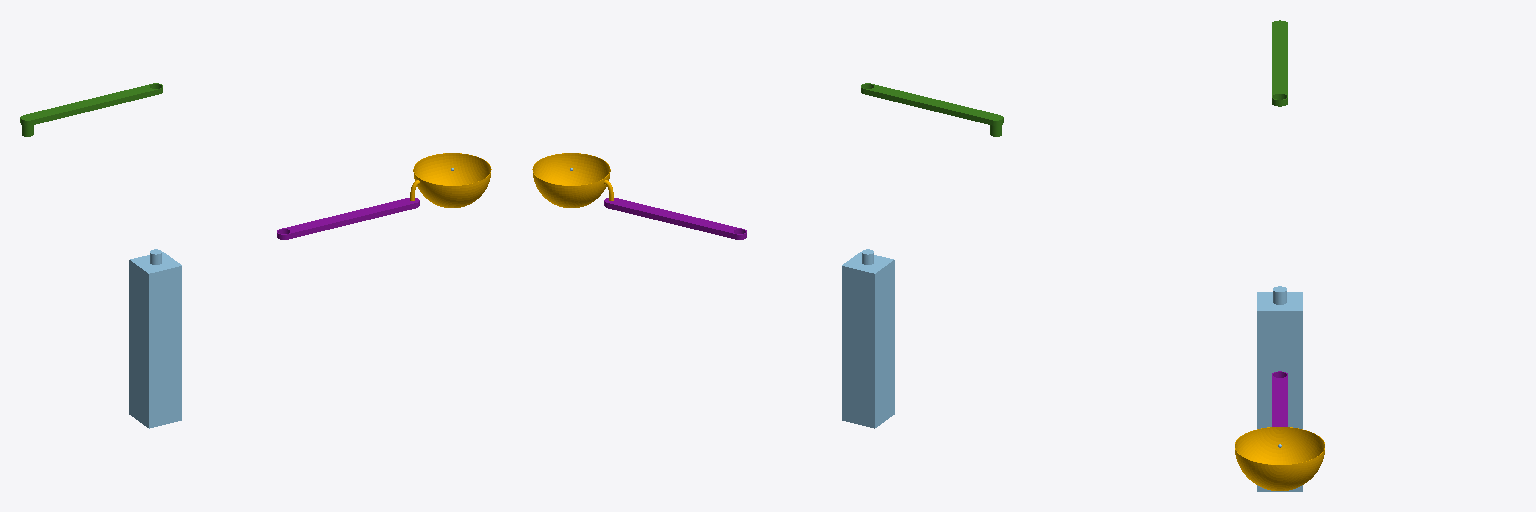
robot.urdf — cup_manipulator:
<?xml version="1.0" ?>
<!-- Generated using onshape-to-robot -->
<!-- Onshape https://cad.onshape.com/documents/02830e503a1c2626d58e0780/w/62db7934caa01effe231f1a9/e/2d769953bf8ae2f53470bd74 -->
<robot name="cup_manipulator">
  <!-- Link base_mount_manipulator -->
  <link name="base_mount_manipulator">
    <inertial>
      <origin xyz="1.73472e-18 -1.61424e-17 0.553261" rpy="0 0 0"/>
      <mass value="542.696"/>
      <inertia ixx="58.2669" ixy="-1.00642e-16" ixz="4.25549e-16" iyy="58.2669" iyz="2.09038e-15" izz="5.62415"/>
    </inertial>
    <!-- Part base_mount_manipulator -->
    <visual>
      <origin xyz="1.73472e-18 -3.93204e-17 0" rpy="0 -0 0"/>
      <geometry>
        <mesh filename="package://assets/base_mount_manipulator.obj"/>
      </geometry>
      <material name="base_mount_manipulator_material">
        <color rgba="0.615686 0.811765 0.929412 1"/>
      </material>
    </visual>
    <collision>
      <origin xyz="1.73472e-18 -3.93204e-17 0" rpy="0 -0 0"/>
      <geometry>
        <mesh filename="package://assets/base_mount_manipulator.obj"/>
      </geometry>
    </collision>
  </link>
  <!-- Link link1 -->
  <link name="link1">
    <inertial>
      <origin xyz="0.549225 2.49602e-18 -0.0251674" rpy="0 0 0"/>
      <mass value="4.09268"/>
      <inertia ixx="0.00488114" ixy="0" ixz="0.0100885" iyy="0.371281" iyz="0" izz="0.372175"/>
    </inertial>
    <!-- Part link1 -->
    <visual>
      <origin xyz="0 2.44929e-18 -0.038125" rpy="0 -0 0"/>
      <geometry>
        <mesh filename="package://assets/link1.obj"/>
      </geometry>
      <material name="link1_material">
        <color rgba="0.282353 0.54902 0.160784 1"/>
      </material>
    </visual>
    <collision>
      <origin xyz="0 2.44929e-18 -0.038125" rpy="0 -0 0"/>
      <geometry>
        <mesh filename="package://assets/link1.obj"/>
      </geometry>
    </collision>
  </link>
  <!-- Link link2 -->
  <link name="link2">
    <inertial>
      <origin xyz="0.499172 2.57775e-18 -0.0190625" rpy="0 0 0"/>
      <mass value="3.64129"/>
      <inertia ixx="0.00315811" ixy="0" ixz="0" iyy="0.286844" iyz="0" izz="0.28912"/>
    </inertial>
    <!-- Part cup -->
    <visual>
      <origin xyz="1.2515 7.18382e-17 0.15" rpy="0 -0 0"/>
      <geometry>
        <mesh filename="package://assets/cup.obj"/>
      </geometry>
      <material name="cup_material">
        <color rgba="0.980392 0.713725 0.00392157 1"/>
      </material>
    </visual>
    <collision>
      <origin xyz="1.2515 7.18382e-17 0.15" rpy="0 -0 0"/>
      <geometry>
        <mesh filename="package://assets/cup.obj"/>
      </geometry>
    </collision>
    <!-- Part link2 -->
    <visual>
      <origin xyz="0 2.44929e-18 -0.038125" rpy="0 -0 0"/>
      <geometry>
        <mesh filename="package://assets/link2.obj"/>
      </geometry>
      <material name="link2_material">
        <color rgba="0.596078 0.121569 0.67451 1"/>
      </material>
    </visual>
    <collision>
      <origin xyz="0 2.44929e-18 -0.038125" rpy="0 -0 0"/>
      <geometry>
        <mesh filename="package://assets/link2.obj"/>
      </geometry>
    </collision>
    <!-- Part simple_ball -->
    <visual>
      <origin xyz="1.2515 8.5716e-17 0.15" rpy="0 -0 0"/>
      <geometry>
        <mesh filename="package://assets/simple_ball.obj"/>
      </geometry>
      <material name="simple_ball_material">
        <color rgba="0.615686 0.811765 0.929412 1"/>
      </material>
    </visual>
    <collision>
      <origin xyz="1.2515 8.5716e-17 0.15" rpy="0 -0 0"/>
      <geometry>
        <mesh filename="package://assets/simple_ball.obj"/>
      </geometry>
    </collision>
  </link>
  <!-- Joint from link1 to link2 -->
  <joint name="link2_link1" type="revolute">
    <origin xyz="0.953 -2.10893e-17 -0.078125" rpy="0 -0 0"/>
    <parent link="link1"/>
    <child link="link2"/>
    <axis xyz="0 0 1"/>
    <limit effort="10" velocity="10" lower="-3.141592653589793" upper="3.141592653589793"/>
  </joint>
  <!-- Joint from base_mount_manipulator to link1 -->
  <joint name="link1_base" type="revolute">
    <origin xyz="2.31296e-18 -3.68711e-17 1.17625" rpy="0 -0 0"/>
    <parent link="base_mount_manipulator"/>
    <child link="link1"/>
    <axis xyz="0 0 1"/>
    <limit effort="10" velocity="10" lower="-3.141592653589793" upper="3.141592653589793"/>
  </joint>
</robot>

--- Render facts (derived) ---
3 views of the same robot in one strip: view 1: azimuth 30°, elevation 25°; view 2: azimuth 150°, elevation 25°; view 3: azimuth 270°, elevation 25° (orthographic).
Model cup_manipulator with 3 links and 2 joints (2 revolute), rooted at base_mount_manipulator, posed all joints at 0.
Visible links, largest first — view 1: base_mount_manipulator, link2, link1; view 2: base_mount_manipulator, link2, link1; view 3: base_mount_manipulator, link2, link1.
Link boxes in pixels (<box>): base_mount_manipulator: <box>129,249,181,428</box>; link2: <box>277,153,491,239</box>; link1: <box>20,83,162,136</box>; base_mount_manipulator: <box>842,249,894,428</box>; link2: <box>532,153,746,239</box>; link1: <box>861,83,1003,136</box>; base_mount_manipulator: <box>1257,286,1302,491</box>; link2: <box>1235,371,1324,490</box>; link1: <box>1272,20,1287,106</box>.
Bounding box of the posed robot: 3.46 × 0.503 × 2.35 m (x, y, z).
Meshes: 5 distinct files referenced, 5 mesh visuals loaded (5 OBJ).
